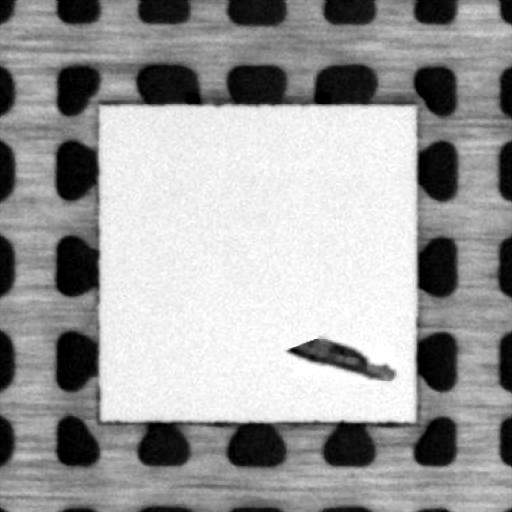DIE_INK: (287, 332, 398, 381)
